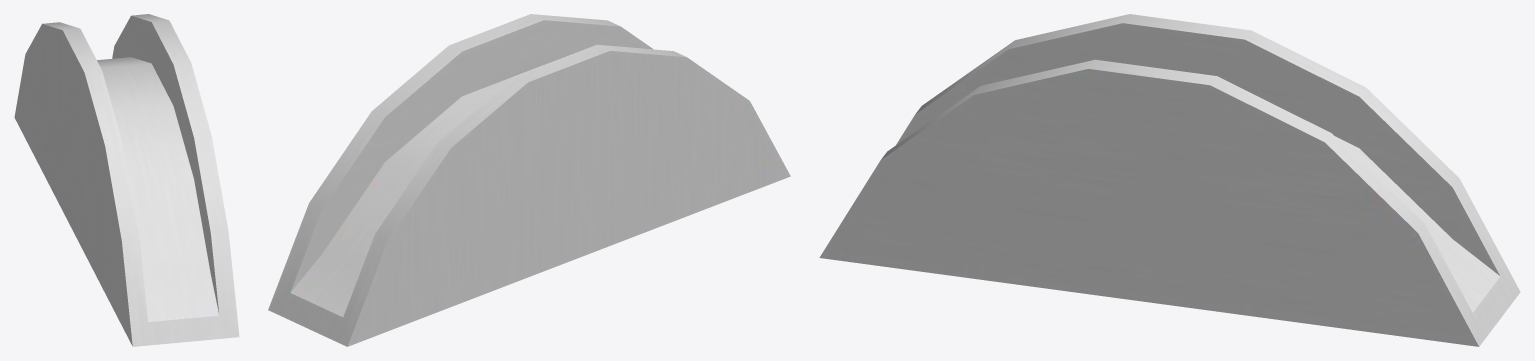
The model's file is tool_pipe_bender_crossbow_nozzle_03.glb.
The picture shows the model from 3 angles, left to right: view 1: azimuth 30°, elevation 25°; view 2: azimuth 150°, elevation 25°; view 3: azimuth 270°, elevation 25°; orthographic projection. The views are drawn at different scales.
Visible parts, largest first — view 1: tool_pipe_bender_crossbow_nozzle_03; view 2: tool_pipe_bender_crossbow_nozzle_03; view 3: tool_pipe_bender_crossbow_nozzle_03.
Boxes of the visible parts, x1=… form: tool_pipe_bender_crossbow_nozzle_03: x1=14, y1=14, x2=239, y2=346; tool_pipe_bender_crossbow_nozzle_03: x1=268, y1=14, x2=790, y2=346; tool_pipe_bender_crossbow_nozzle_03: x1=819, y1=14, x2=1520, y2=346.
Size of the model in its own units: 0.0906 by 0.0662 by 0.1866.
Materials: 1 (1 with a texture image).
